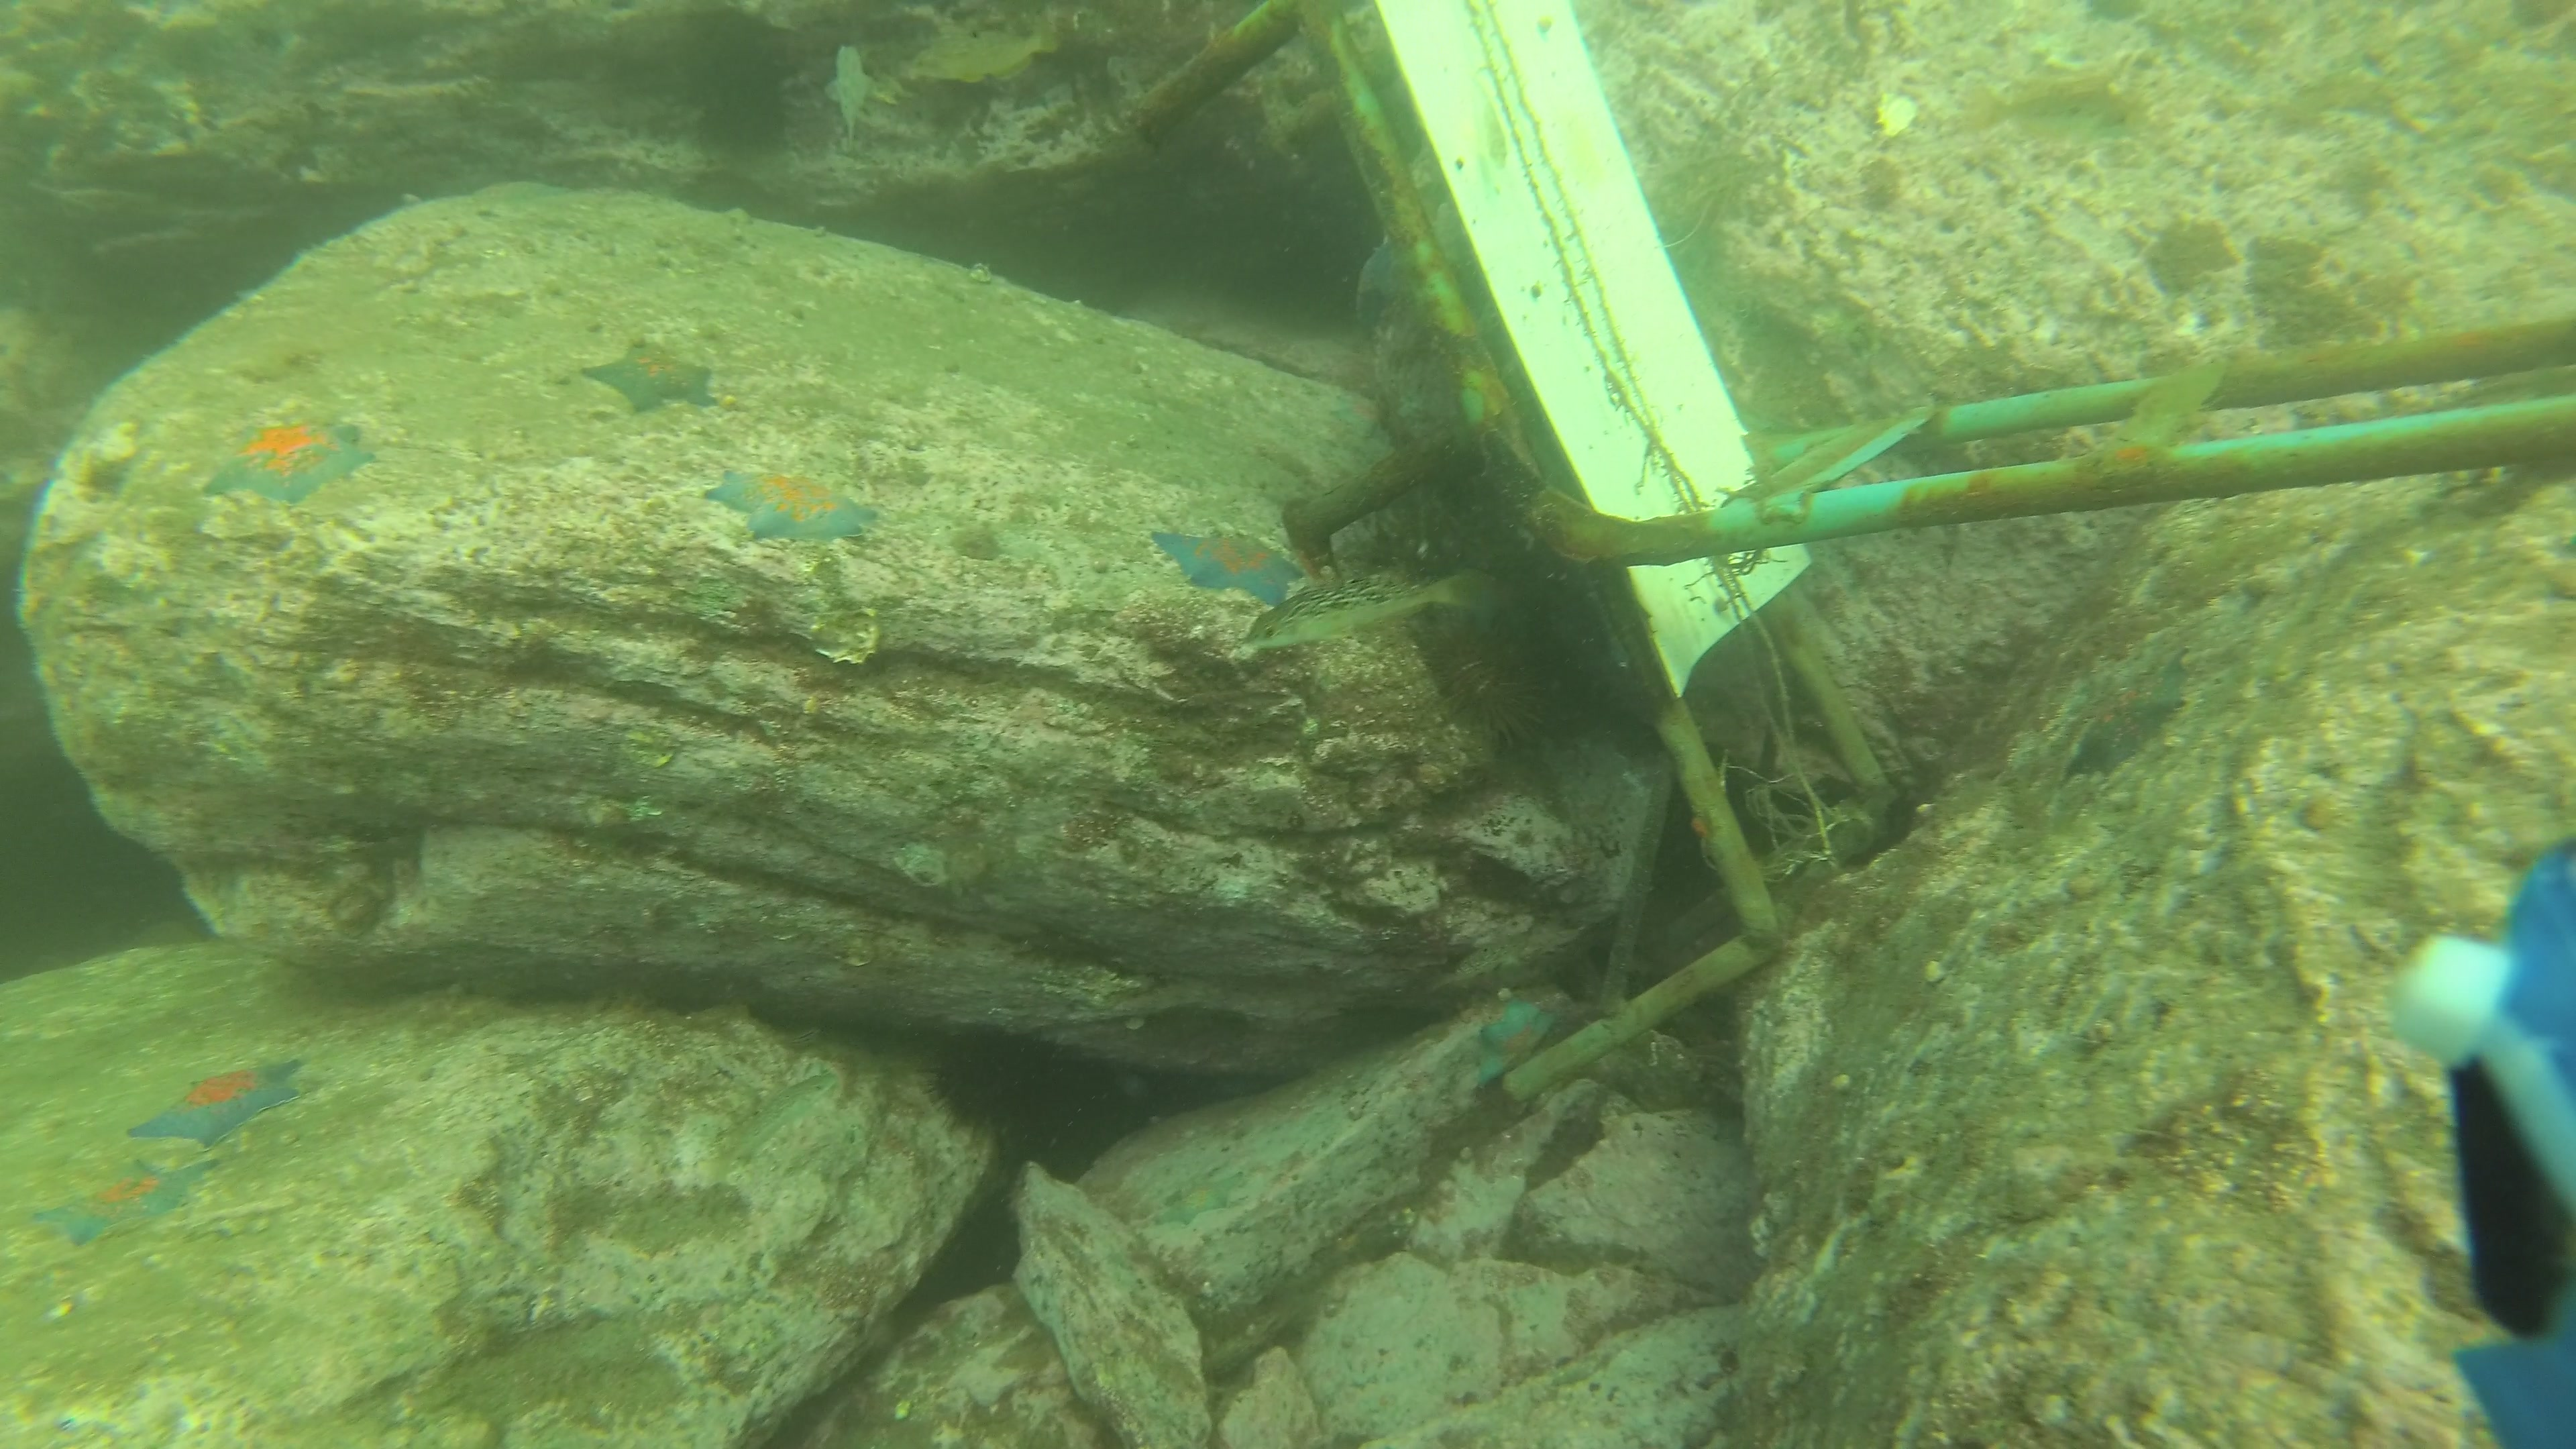echinus: (918, 1028, 1109, 1152), (1405, 602, 1557, 755)
starfish: (27, 1152, 228, 1253), (2058, 648, 2190, 782), (200, 414, 379, 510), (131, 1054, 310, 1148), (1145, 518, 1309, 610), (709, 460, 883, 540), (580, 340, 724, 414), (1470, 998, 1560, 1090), (1155, 1166, 1249, 1226), (1350, 235, 1401, 331), (465, 172, 575, 205), (1325, 386, 1387, 444)
